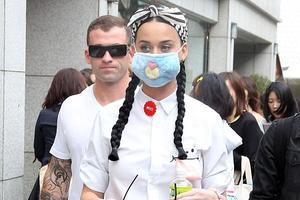NONE: (89, 40, 130, 82), (268, 97, 287, 119)
OK: (136, 38, 183, 85)
